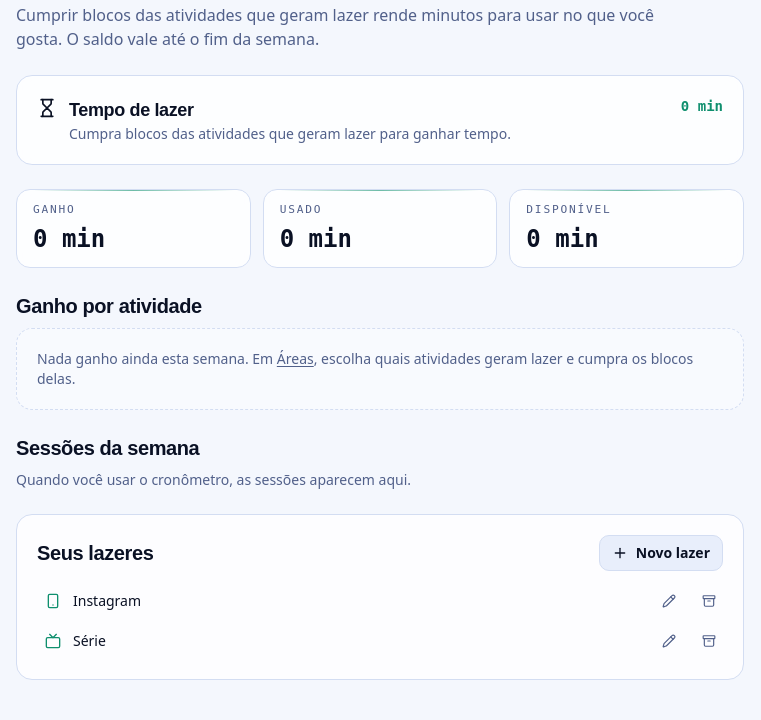
Test: LeisurePage (tempo de lazer) › arquiva e restaura um lazer (nunca exclui)
(page scrolled)
Click the button named "Arquivar lazer Série": (709, 641) x1=695 y1=627 x2=723 y2=655
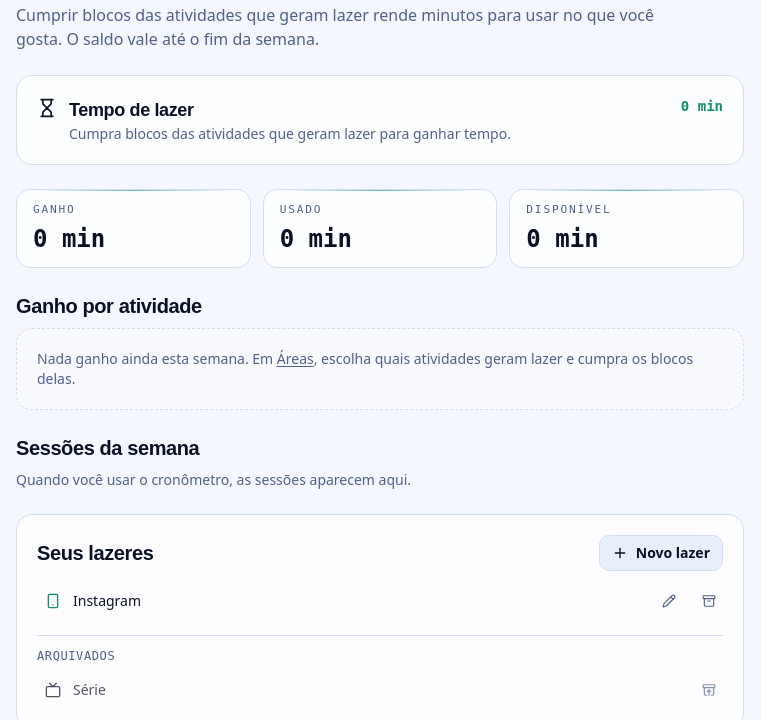
Expected: the heading "Arquivados" is shown, x1=37 y1=649 x2=115 y2=663
Click the button named "Restaurar lazer Série": (709, 690) x1=695 y1=676 x2=723 y2=704
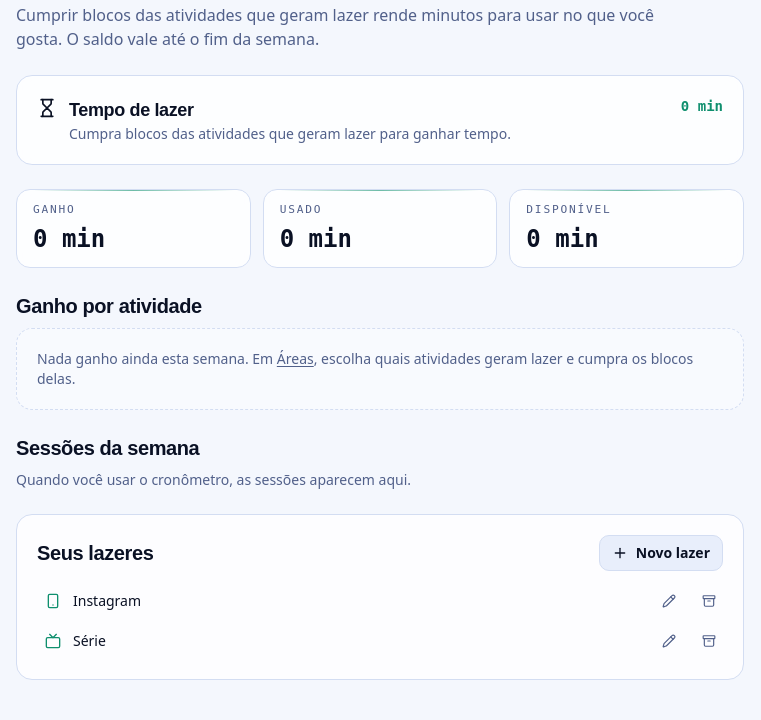
Expected: the button named "Editar lazer Série" is shown, x1=655 y1=627 x2=683 y2=655
Expected: the heading "Arquivados" is gone
